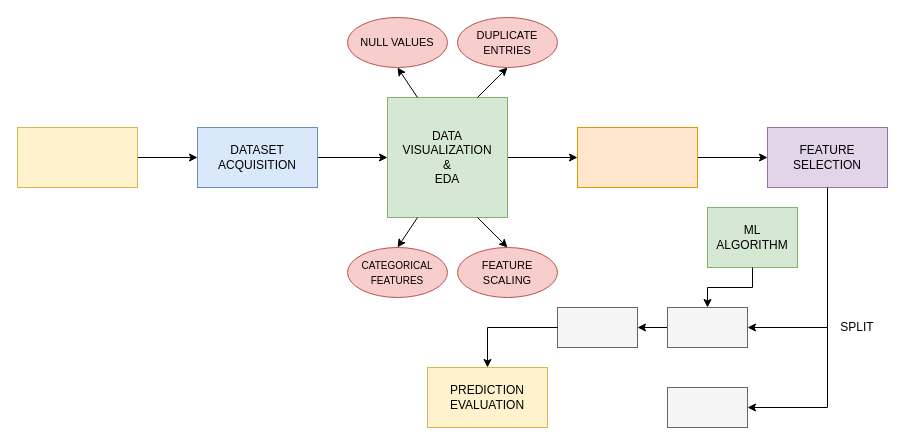
The diagram is 905 pixels wide and 445 high, and some of its shapes have lost their labels. Here are the shapes that lost their labels. From the top down, the box of each, then its label:
(16, 126, 138, 188): PROBLEM FORMATION
(576, 126, 698, 188): DATA PRE-PROCESSING
(556, 306, 638, 348): MODEL
(666, 306, 748, 348): TRAIN
(666, 386, 748, 428): TEST
